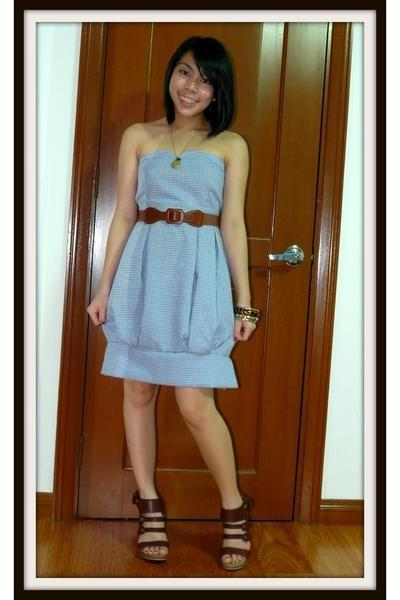dress: (101, 148, 237, 387)
shoe: (128, 489, 255, 562)
